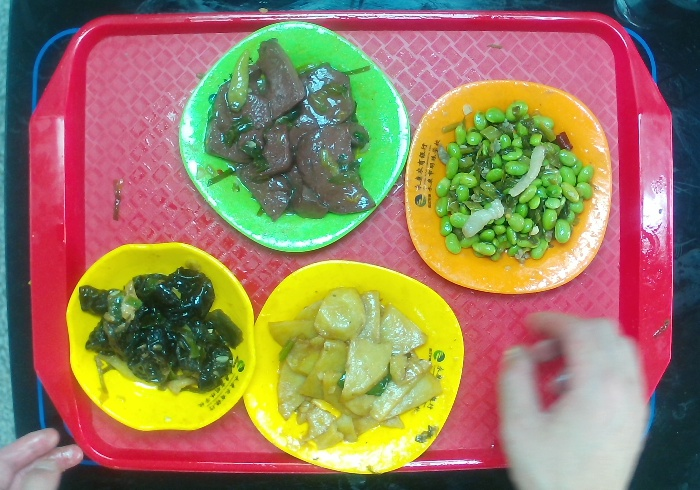YKMZ-Huang_Se_Ao_Bian_Wan: (60, 236, 260, 439)
YKMZ-Huang_Se_Fang_Die: (238, 254, 472, 479)
YKMZ-Ju_Se_Fang_Die: (399, 73, 617, 301)
YKMZ-Lv_Se_Fang_Die: (172, 18, 415, 256)
